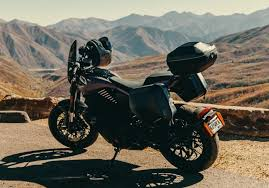motorcycle: (46, 35, 225, 173)
